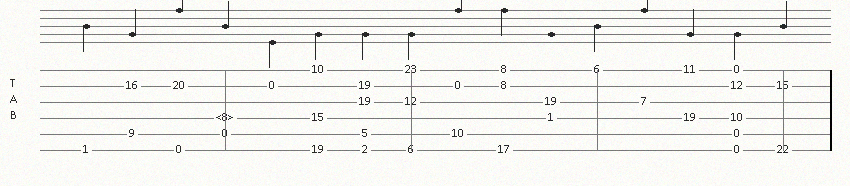0: (176, 144, 186, 156), (222, 128, 232, 140), (269, 80, 279, 92), (455, 80, 465, 92), (734, 128, 744, 140), (734, 144, 744, 156), (734, 64, 744, 76)
1: (83, 144, 93, 156), (548, 112, 558, 124)
10: (312, 64, 328, 76), (452, 128, 468, 140), (731, 112, 747, 124)
11: (684, 64, 700, 76)
12: (405, 96, 421, 108), (731, 80, 747, 92)
15: (312, 112, 328, 124), (777, 80, 793, 92)
16: (126, 80, 142, 92)
17: (498, 144, 514, 156)
19: (312, 144, 328, 156), (359, 96, 375, 108), (359, 80, 375, 92), (545, 96, 561, 108), (684, 112, 700, 124)
2: (362, 144, 372, 156)
20: (173, 80, 189, 92)
22: (777, 144, 793, 156)
23: (405, 64, 421, 76)
5: (362, 128, 372, 140)
6: (408, 144, 418, 156), (594, 64, 604, 76)
7: (641, 96, 651, 108)
8: (501, 80, 511, 92), (501, 64, 511, 76)
9: (129, 128, 139, 140)
harmonic: (216, 112, 238, 124)
